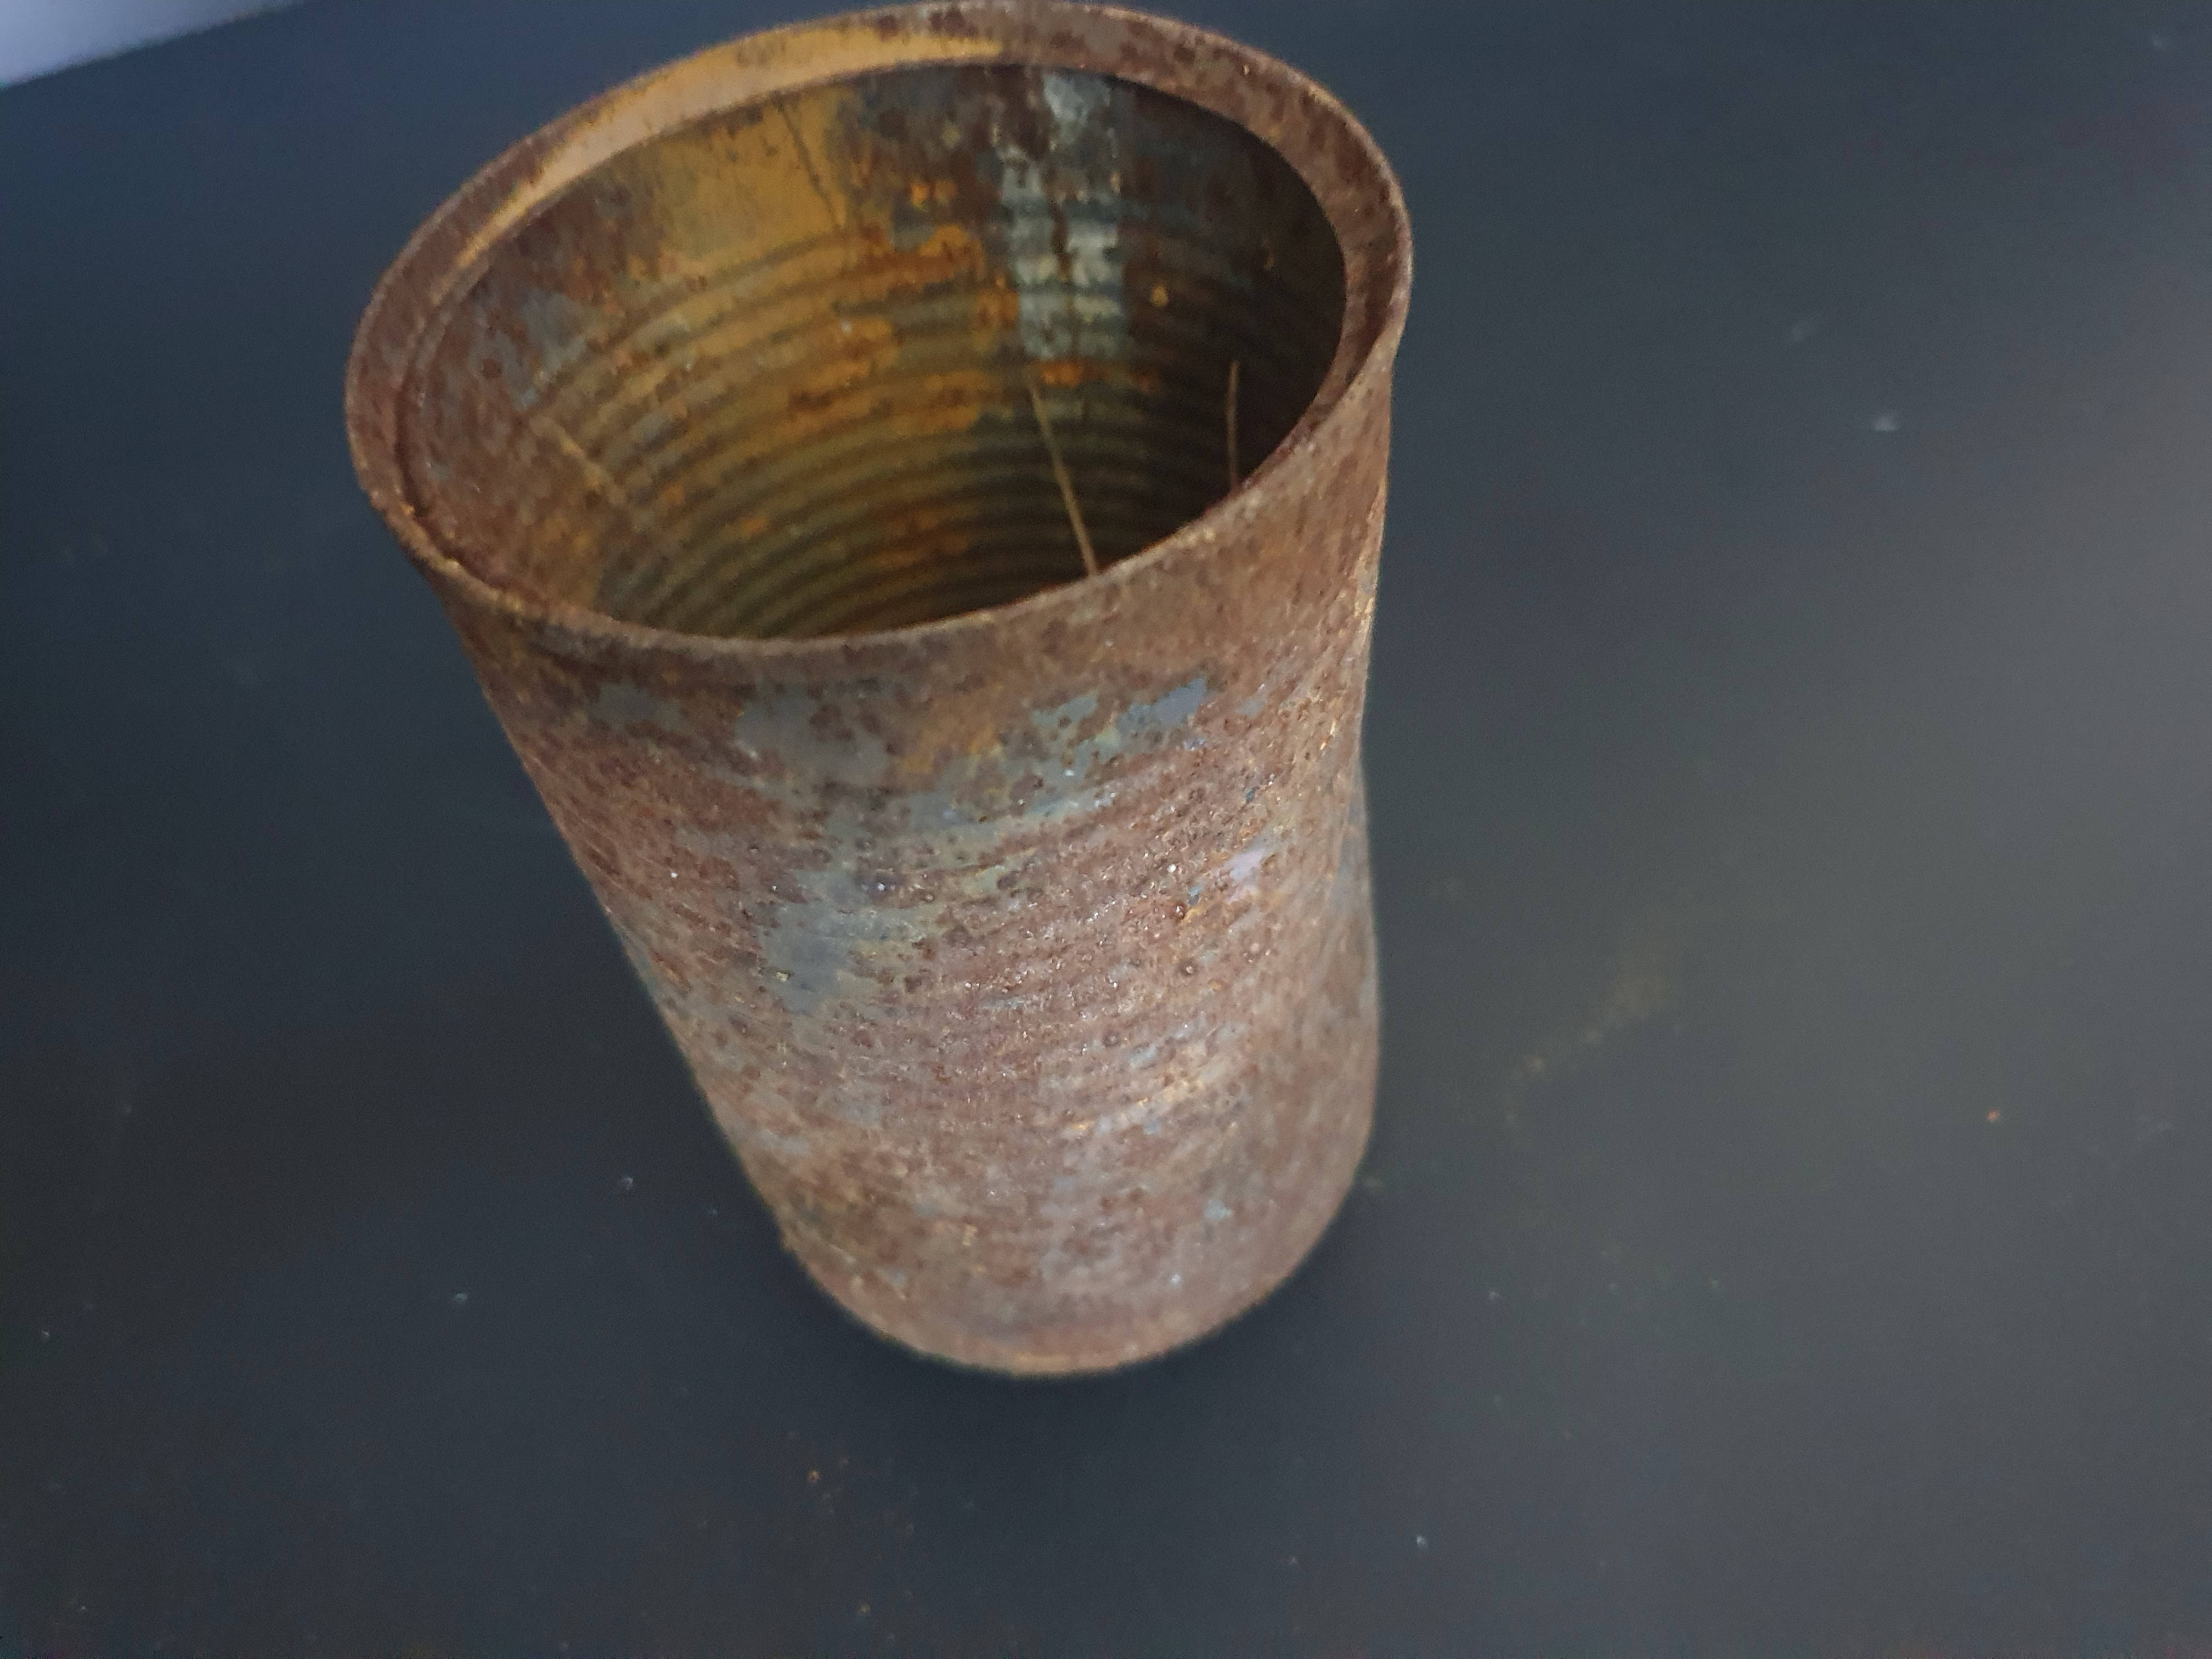metal: (319, 0, 1433, 1410)
